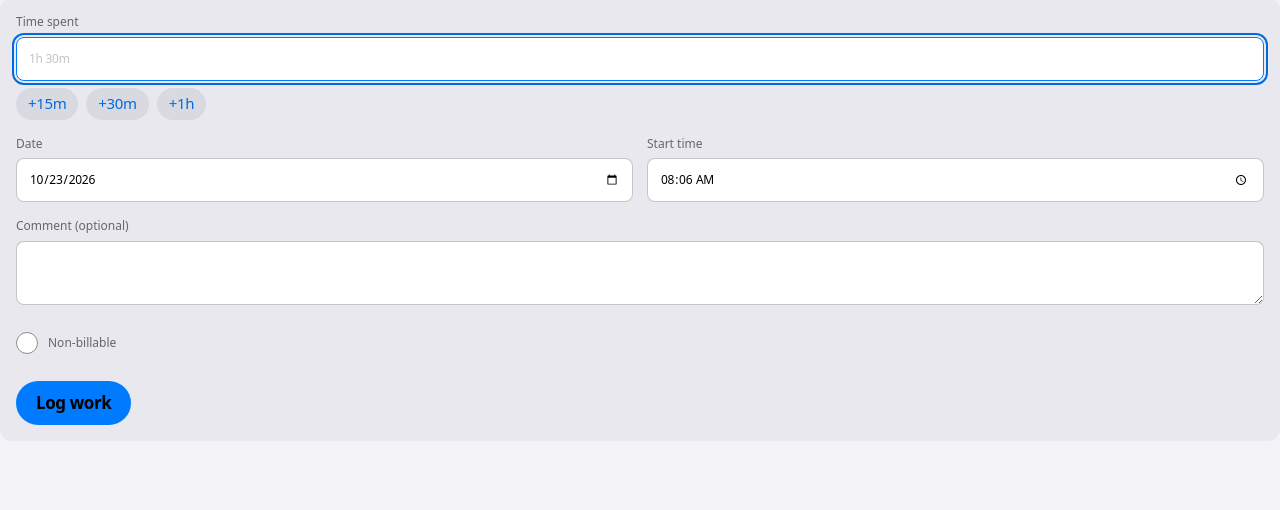
Scenario: a duration that makes no sense › refuses an empty one too
The image size is (1280, 510).
Click the button "Log work": point(74, 403) [16,381,131,425]
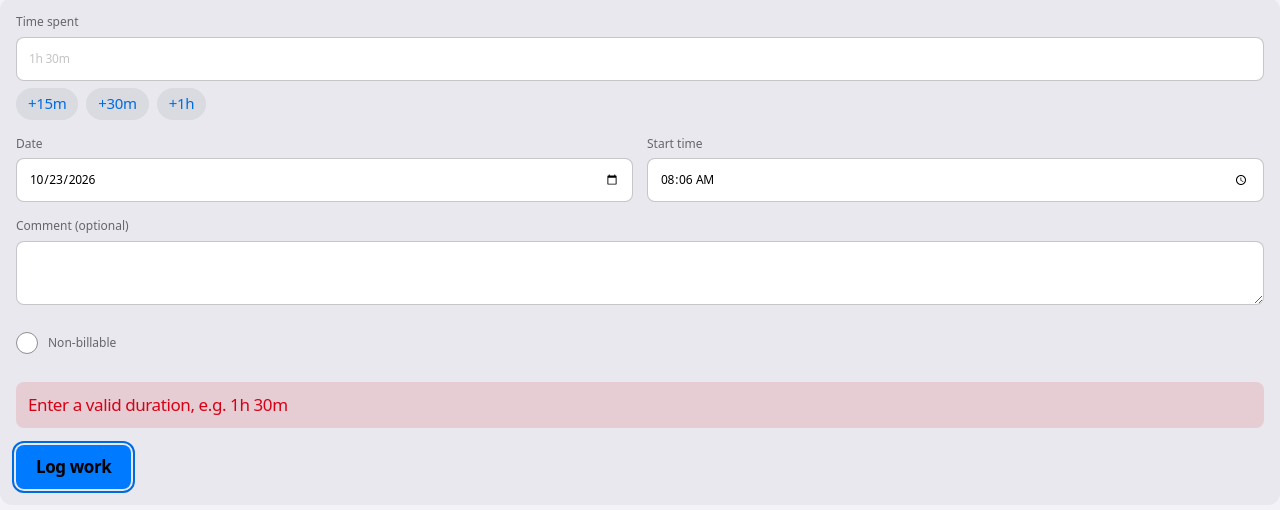
Check: the text "Enter a valid duration, e.g. 1h 30m" is shown, box [16,382,1264,428]
